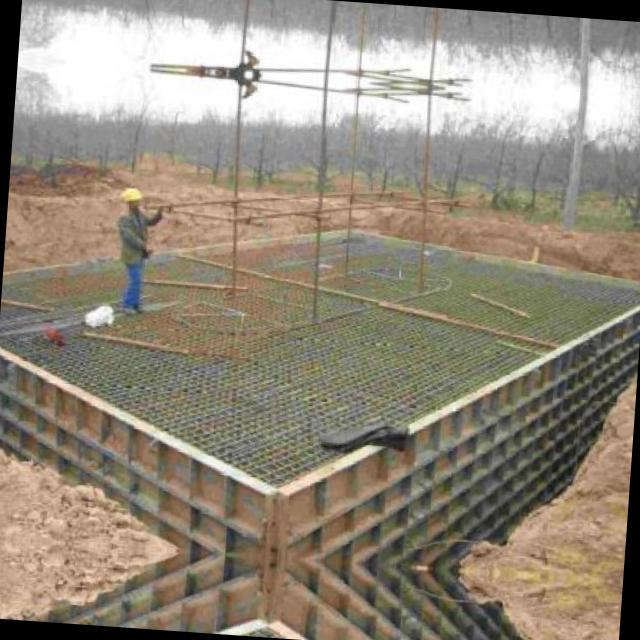helmet: (118, 182, 140, 214)
